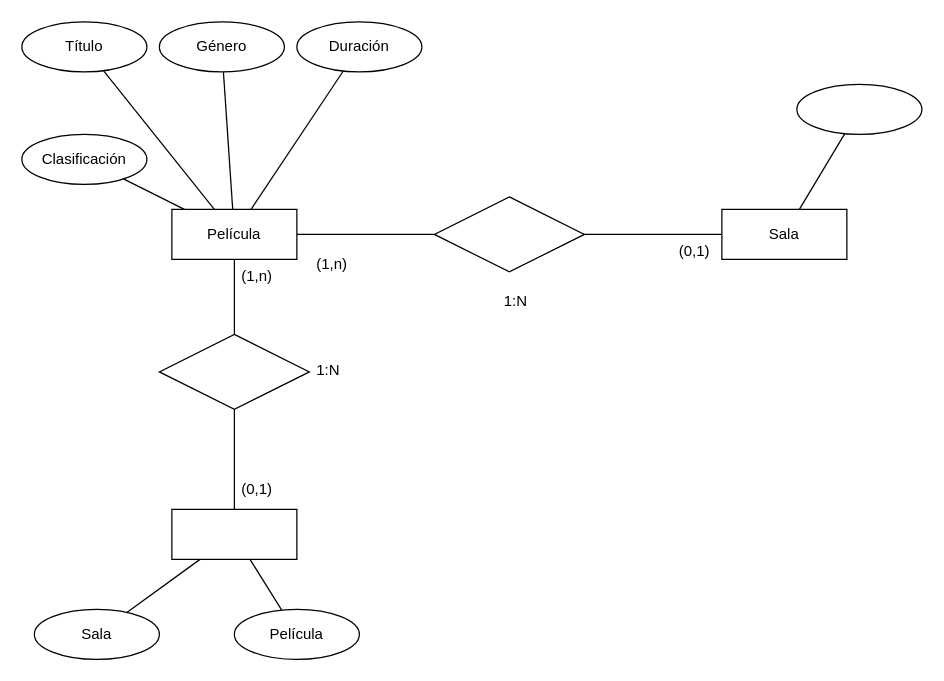
The diagram is 944 pixels wide and 681 high, and some of its shapes have lost their labels. Each missing label, with the centre of its shape:
Costo: (233,371)
Entrada: (234,533)
Número: (859,108)
Se proyecta: (508,234)
